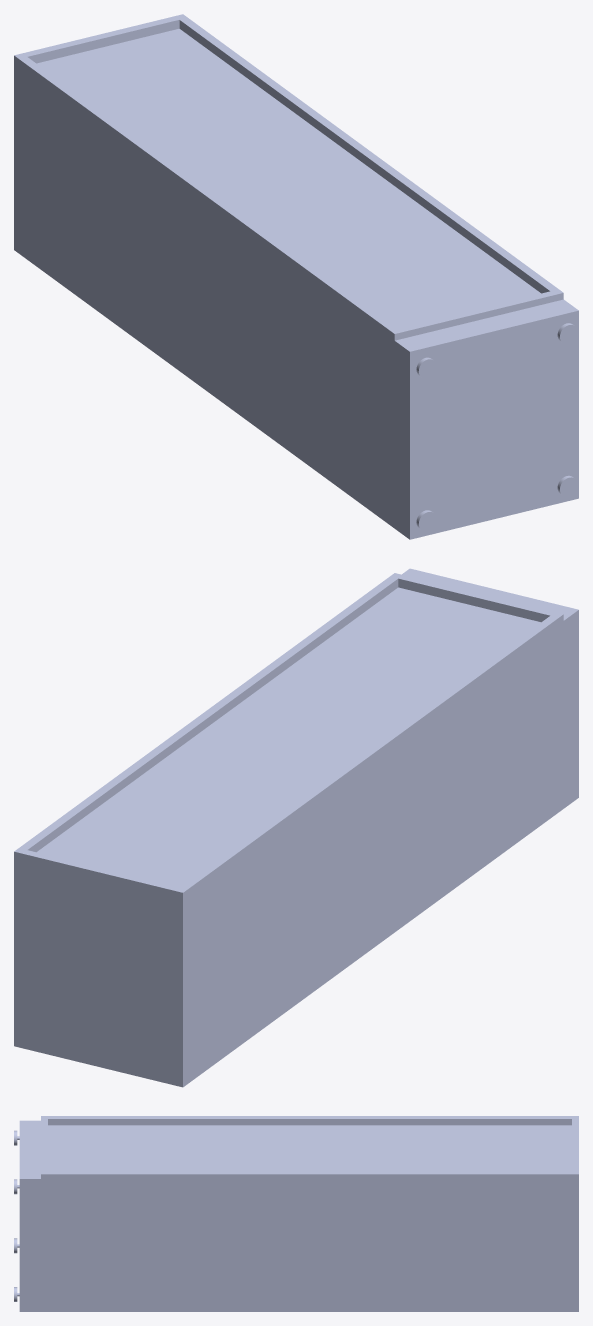
File: Locker cabinet - 20in._y.fbx
3 renders of one model, top to bottom at view 1: azimuth 30°, elevation 25°; view 2: azimuth 150°, elevation 25°; view 3: azimuth 270°, elevation 25°, orthographic. The views are drawn at different scales.
Visible parts, largest first — view 1: Body_1; view 2: Body_1; view 3: Body_1.
Boxes of the visible parts, x1,y1,x2,y2 form: Body_1: (14,14,578,539); Body_1: (14,568,578,1087); Body_1: (14,1116,578,1311).
Bounding box in the file's own units: 0.508 × 2.08 × 0.5588.
